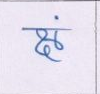anusvara: (55, 16, 58, 19)
